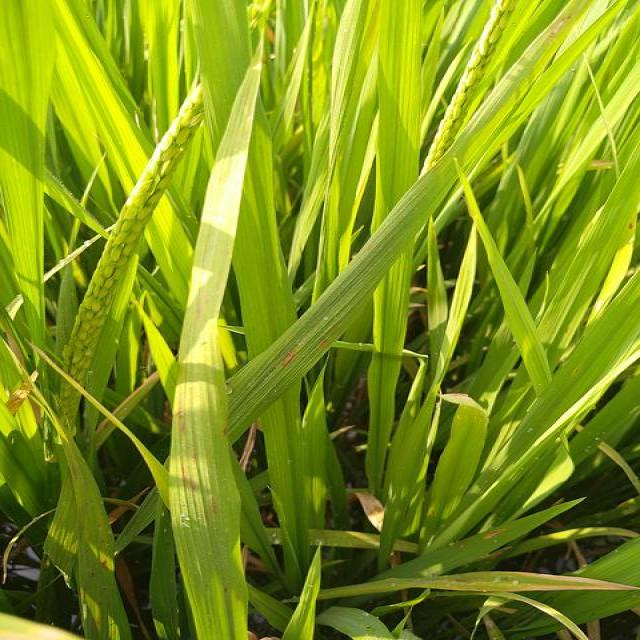Leaf Streak: (167, 41, 261, 639), (272, 341, 307, 371)
